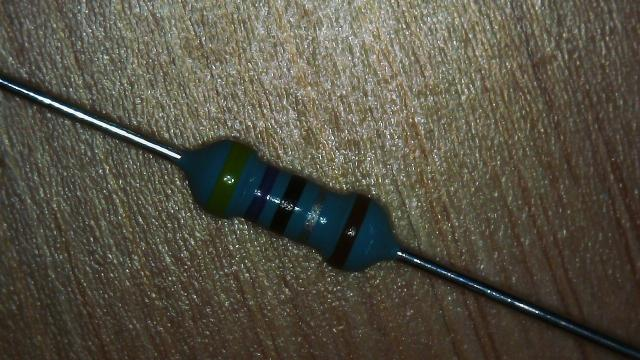black: (269, 174, 308, 234)
brown: (330, 195, 370, 268)
resistor: (176, 128, 398, 286)
silver: (298, 187, 326, 244)
violet: (244, 165, 279, 223)
yellow: (206, 143, 252, 216)
